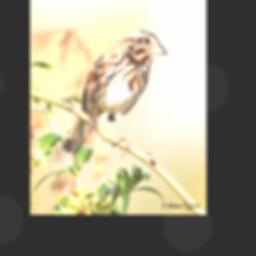Sparrow: (61, 29, 168, 161)
